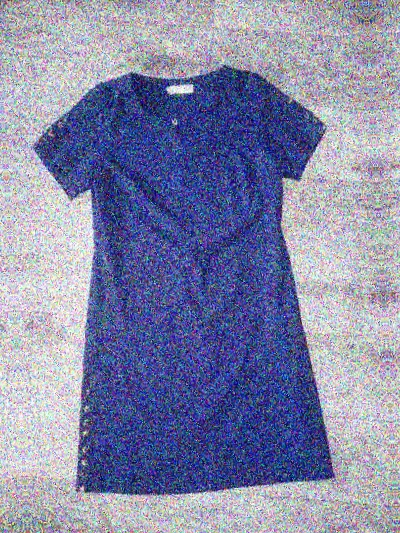Dress: (3, 17, 369, 520), (0, 38, 21, 533), (394, 0, 400, 496)
